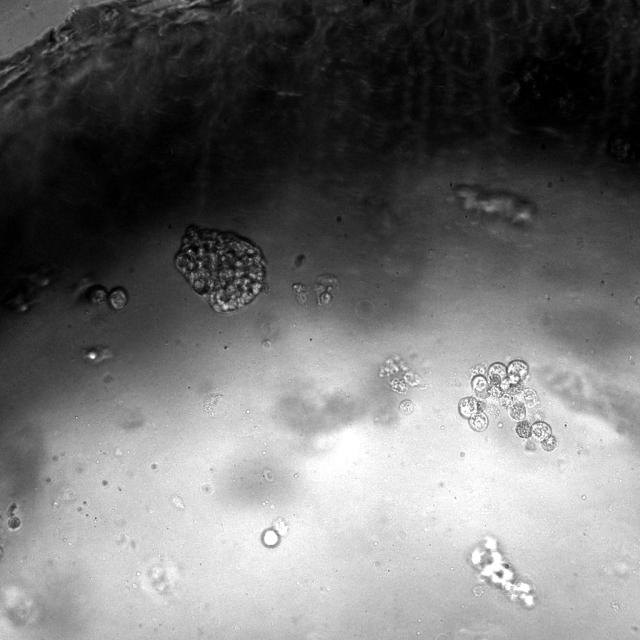organoid: (458, 359, 558, 452), (176, 225, 266, 312), (471, 537, 532, 605), (454, 185, 534, 224), (379, 358, 421, 394), (312, 276, 337, 305), (107, 286, 128, 311), (292, 283, 309, 306), (261, 528, 280, 548), (87, 285, 107, 304), (7, 503, 21, 530), (399, 399, 415, 413)
